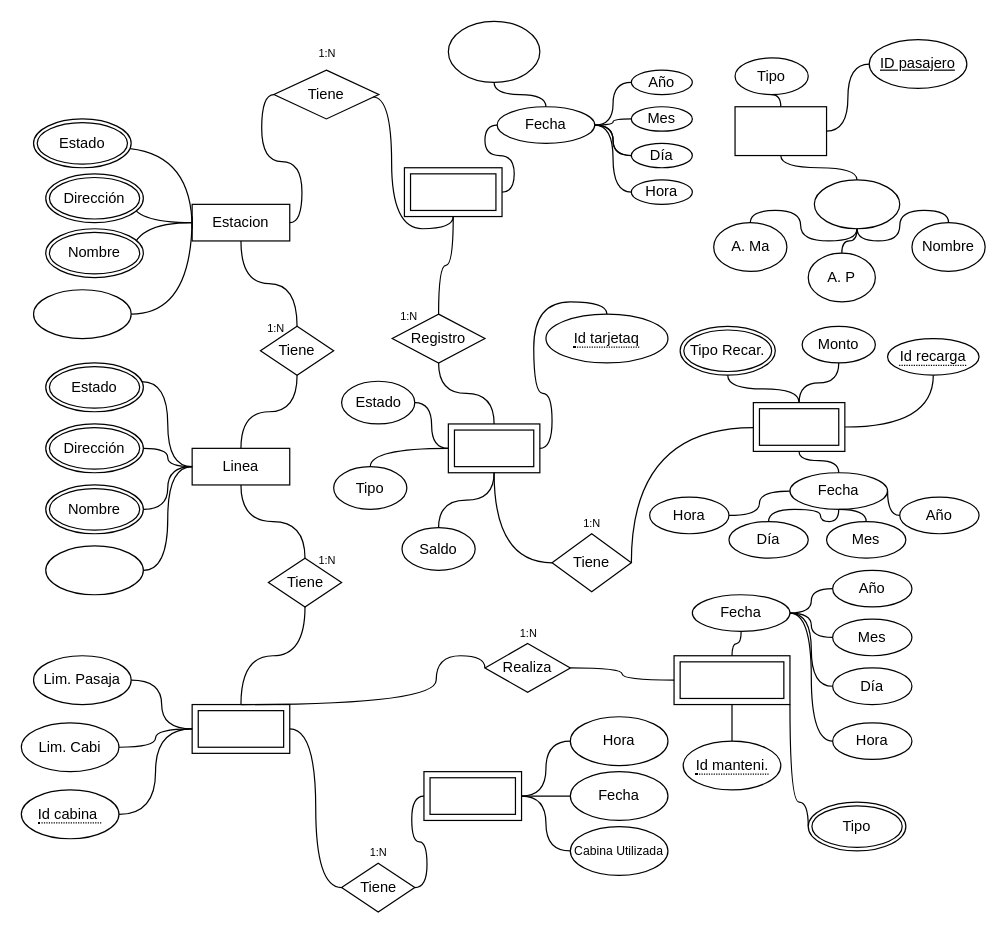
Some shapes in this 1007 by 933 pixel diagram are drawn without their labels. The centre of each missing label's shape, as x and y in pixels:
"Cabina" goes at (240,728).
"ID Estación" goes at (81,314).
"ID Ingresos" goes at (493,51).
"ID L inea" goes at (94,570).
"Ingresos" goes at (452,192).
"Mantenimiento" goes at (731,680).
"Nombre C." goes at (856,204).
"Pasaheros" goes at (780,131).
"Recargas" goes at (798,426).
"Tarjetas" goes at (493,448).
"Viaje" goes at (472,795).
